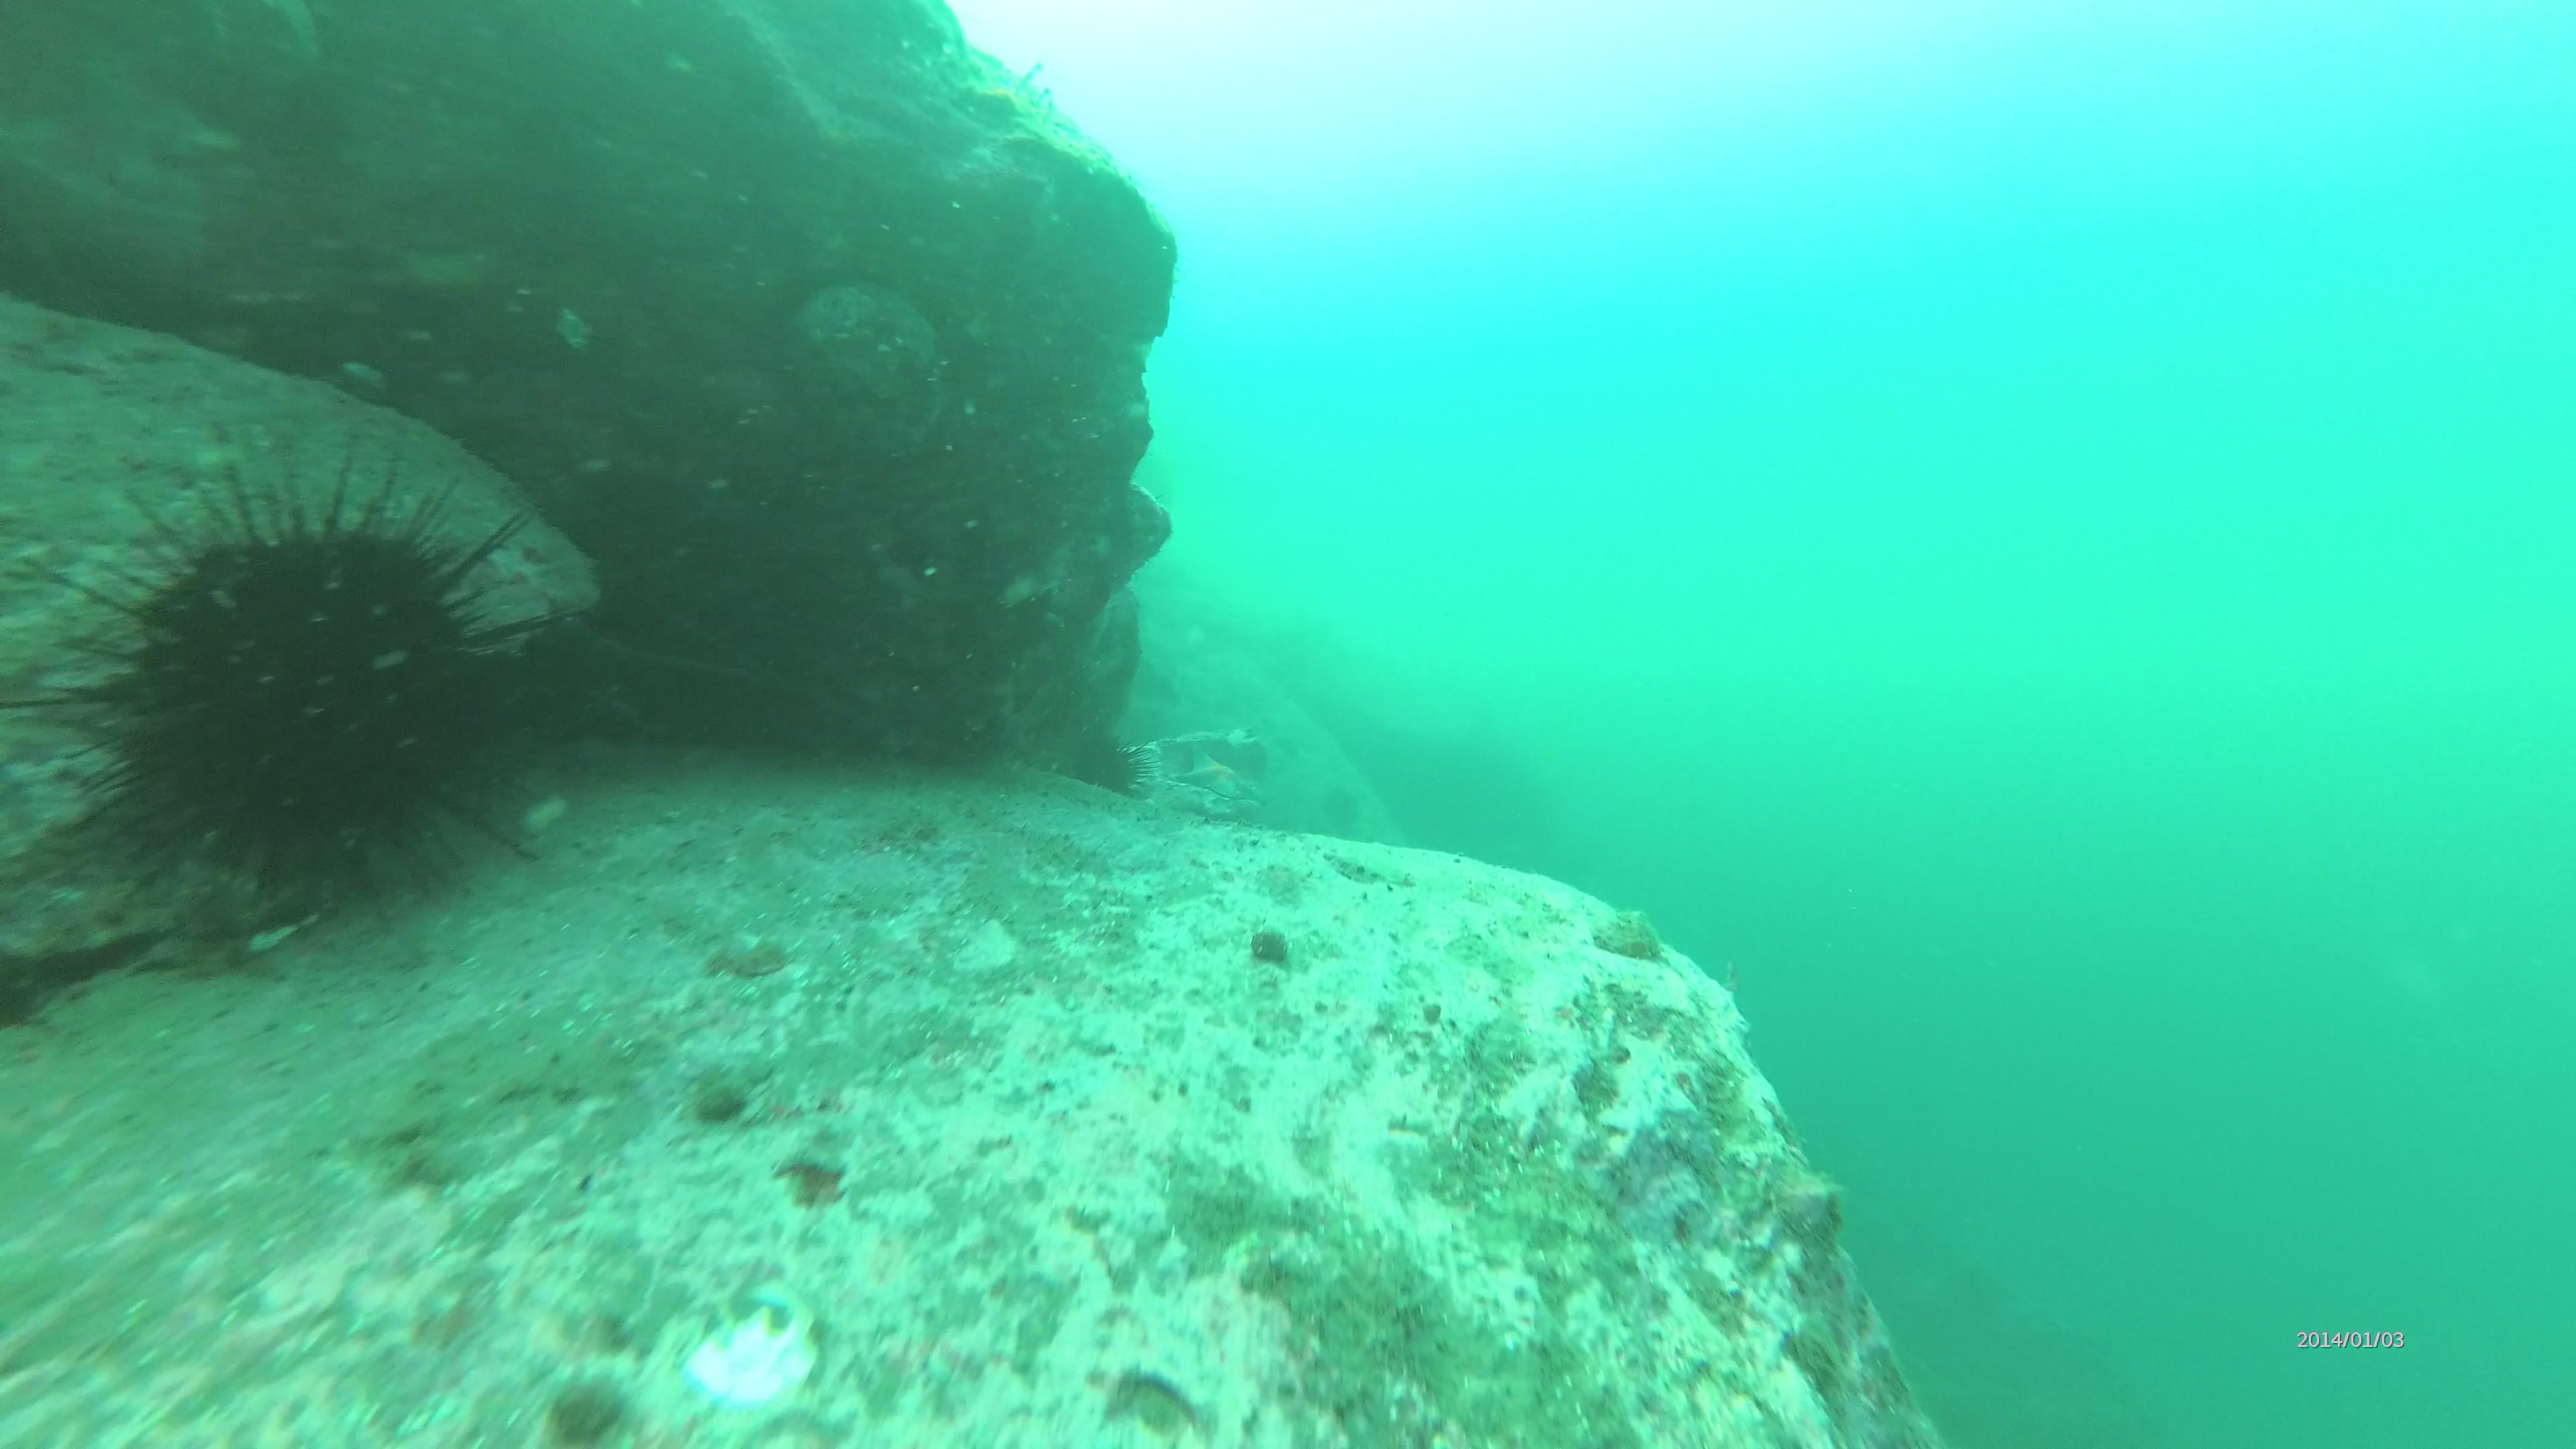echinus: (0, 409, 589, 927), (1060, 706, 1164, 798)
